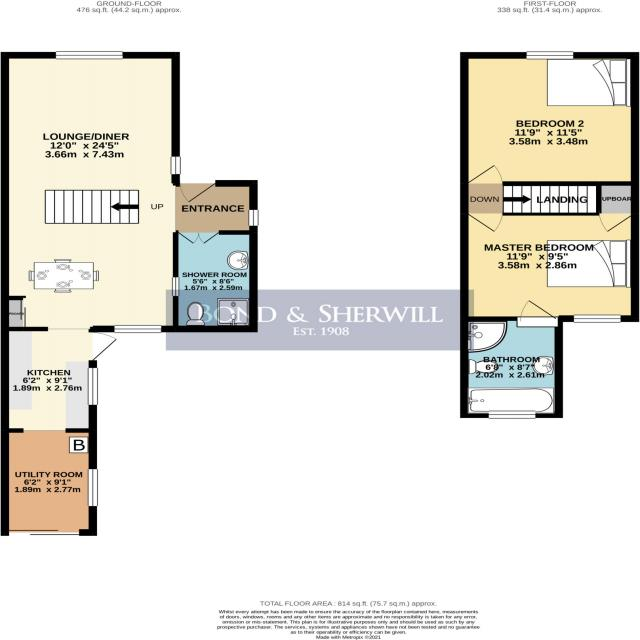DOOR: (88, 329, 120, 361), (464, 163, 504, 185), (467, 212, 506, 233), (519, 299, 557, 319), (599, 214, 634, 234)
ROOM: (2, 50, 180, 434), (459, 51, 640, 185), (459, 213, 640, 323)
WINDOW: (54, 50, 125, 60), (110, 323, 165, 335), (86, 364, 99, 408), (521, 50, 575, 60), (484, 411, 538, 420), (570, 314, 622, 323), (169, 153, 183, 178), (170, 275, 181, 298), (248, 206, 259, 228)
